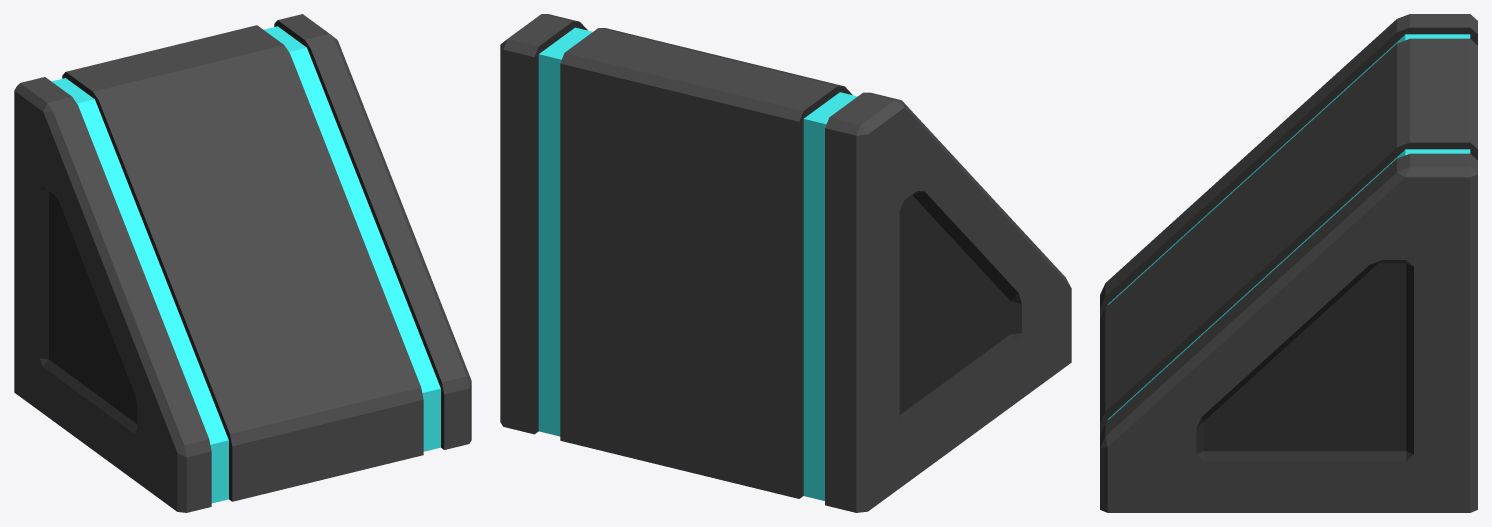
Rendered from HJD_SFB_Ramp_01.fbx.
The picture shows the model from 3 angles, left to right: view 1: azimuth 30°, elevation 25°; view 2: azimuth 150°, elevation 25°; view 3: azimuth 270°, elevation 25°; orthographic projection. The views are drawn at different scales.
Parts seen in each view (by area): view 1: HJD_SFB_Asset; view 2: HJD_SFB_Asset; view 3: HJD_SFB_Asset.
Part boxes in pixels (bbox=[...]): HJD_SFB_Asset: bbox=[14, 14, 471, 512]; HJD_SFB_Asset: bbox=[500, 14, 1071, 512]; HJD_SFB_Asset: bbox=[1100, 14, 1477, 512].
Bounding box in the file's own units: 100 × 100 × 100.
